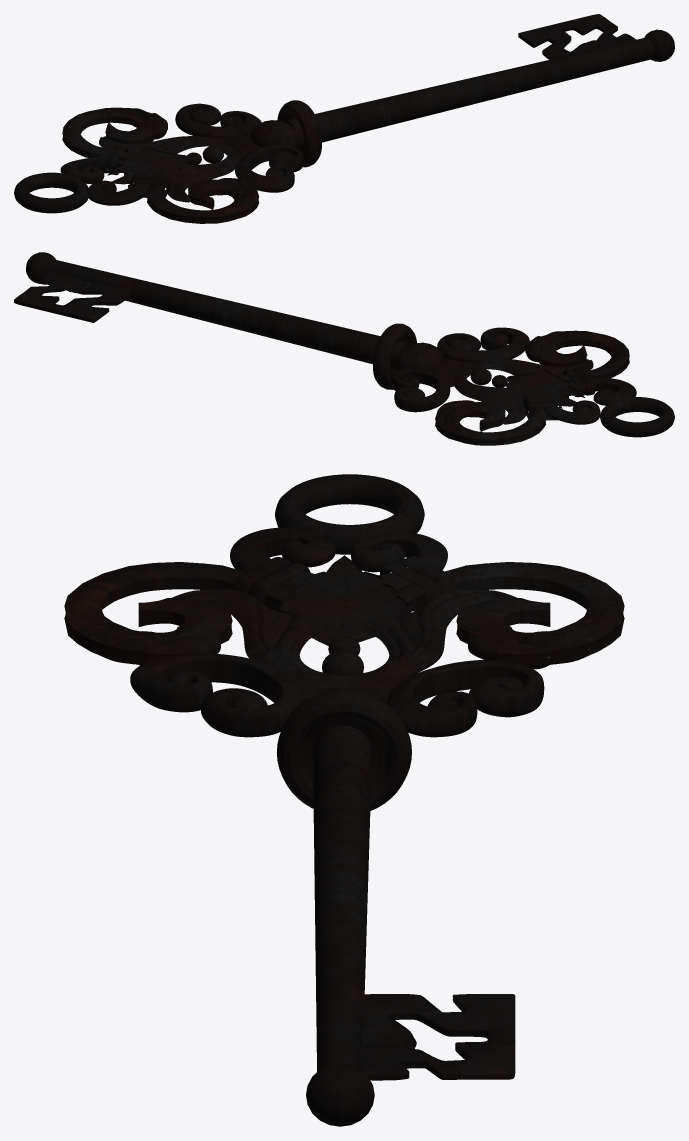
File: Key.glb
3 renders of one model, top to bottom at view 1: azimuth 30°, elevation 25°; view 2: azimuth 150°, elevation 25°; view 3: azimuth 270°, elevation 25°, orthographic. The views are drawn at different scales.
Parts seen in each view (by area): view 1: Torus_4; view 2: Torus_4; view 3: Torus_4.
Boxes of the visible parts, x1,y1,x2,y2 form: Torus_4: (14, 14, 674, 223); Torus_4: (14, 252, 674, 445); Torus_4: (64, 474, 624, 1126).
Bounding box in the file's own units: 3.48 × 0.3164 × 1.31.
1 material, 1 textured.
